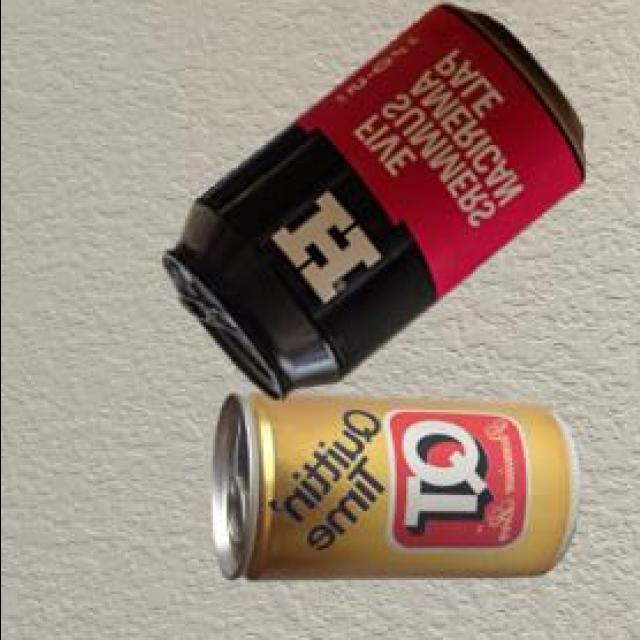logam: (165, 8, 588, 404), (215, 397, 581, 584)
